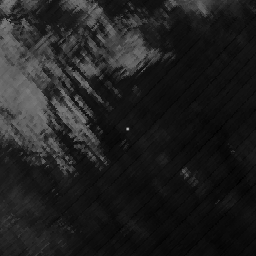Target: (124, 125, 130, 131)
